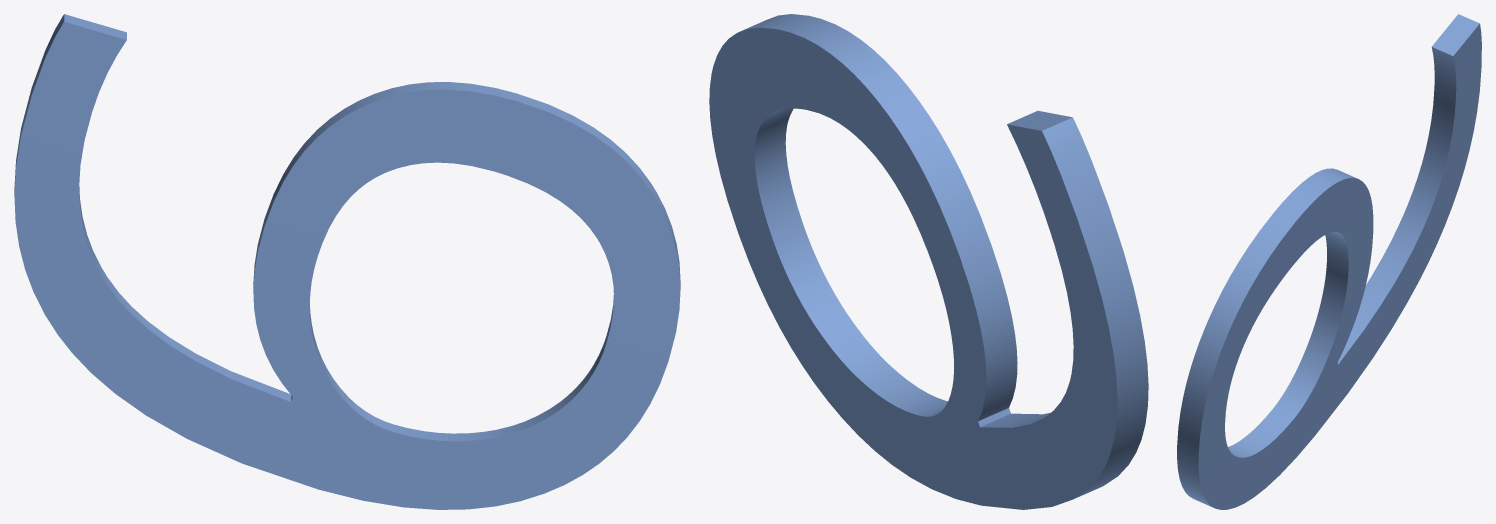
File: New_Number_6.gltf
The picture shows the model from 3 angles, left to right: view 1: azimuth 30°, elevation 25°; view 2: azimuth 150°, elevation 25°; view 3: azimuth 270°, elevation 25°; orthographic projection. The views are drawn at different scales.
Parts seen in each view (by area): view 1: Part 60; view 2: Part 60; view 3: Part 60.
Boxes of the visible parts, x1=… form: Part 60: x1=14, y1=14, x2=680, y2=509; Part 60: x1=709, y1=14, x2=1148, y2=509; Part 60: x1=1177, y1=14, x2=1481, y2=509.
Bounding box in the file's own units: 0.00487 × 0.00412 × 0.00306.
